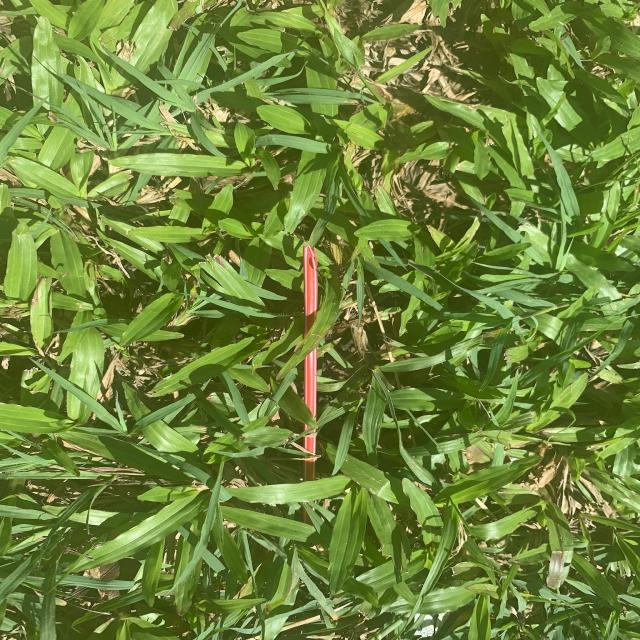Plastic straw: (302, 245, 318, 526)
